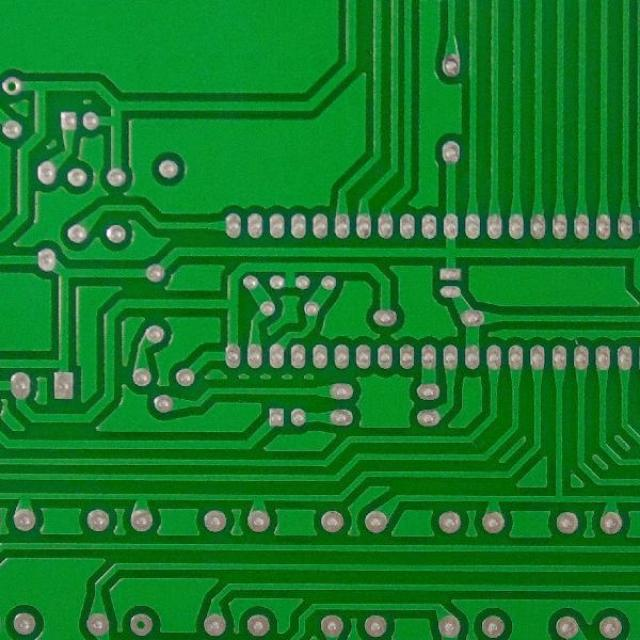Missing_Hole: (126, 613, 156, 637), (1, 76, 21, 97)
